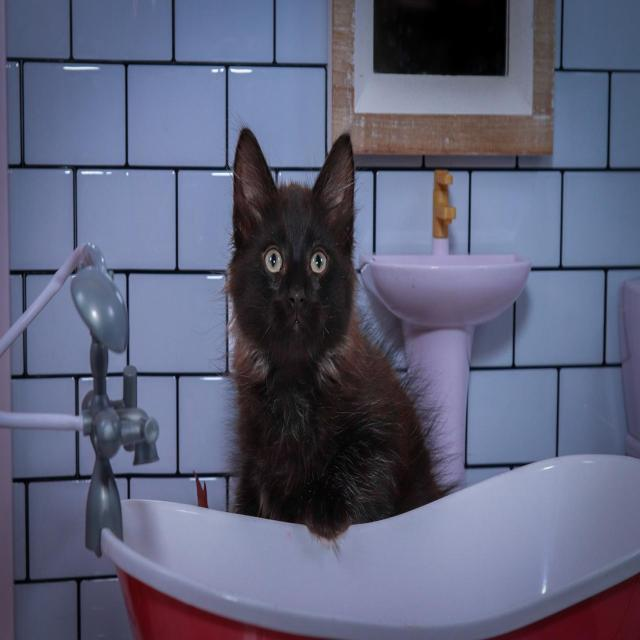manx_cat: (210, 99, 384, 421)
